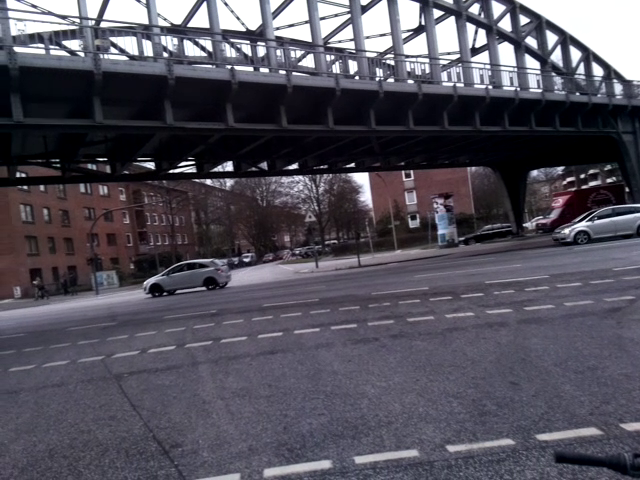car: (140, 255, 233, 305)
